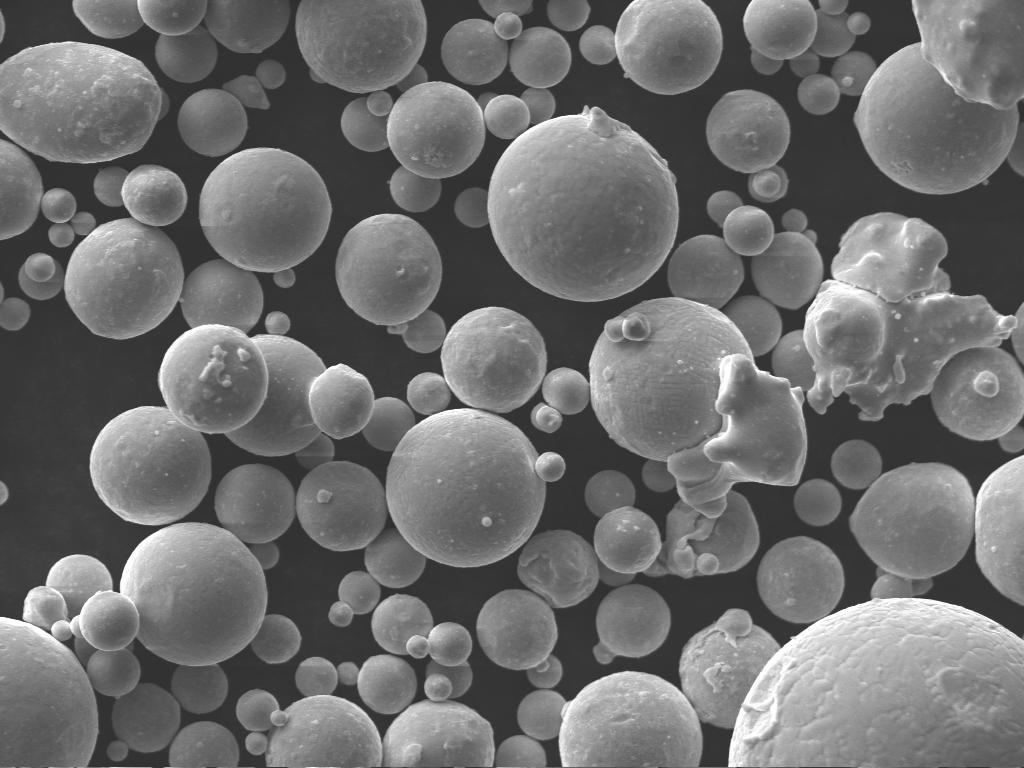Powder: (772, 212, 1016, 420), (730, 600, 1024, 766), (590, 298, 806, 519), (488, 106, 678, 302), (386, 408, 566, 567), (854, 44, 1018, 194), (120, 522, 268, 666), (0, 42, 168, 163), (200, 148, 332, 287), (226, 334, 374, 455), (850, 462, 974, 593), (64, 218, 184, 339), (0, 618, 98, 765), (90, 406, 210, 526), (558, 672, 702, 766), (912, 0, 1024, 109), (296, 0, 426, 93), (680, 608, 780, 728), (160, 324, 268, 433), (336, 214, 442, 325), (236, 690, 382, 767), (442, 306, 546, 413), (668, 206, 774, 308), (614, 0, 722, 94), (646, 492, 760, 578), (706, 90, 790, 202), (388, 82, 486, 178), (930, 348, 1024, 439), (296, 462, 388, 551), (756, 536, 844, 624), (382, 700, 494, 766), (976, 456, 1024, 605), (476, 590, 558, 672), (214, 464, 296, 544), (518, 530, 600, 608), (592, 584, 670, 663), (180, 260, 264, 331), (750, 230, 824, 309), (442, 12, 522, 84), (106, 684, 180, 761), (50, 590, 140, 652), (594, 506, 662, 586), (204, 0, 290, 53), (178, 90, 248, 155), (744, 0, 818, 60), (0, 140, 44, 239), (46, 554, 112, 617), (122, 164, 188, 225), (372, 594, 434, 658), (510, 26, 572, 88), (364, 528, 426, 588), (358, 654, 418, 713), (156, 26, 218, 82), (722, 296, 780, 355), (810, 0, 870, 57), (340, 90, 394, 152), (170, 722, 238, 767), (328, 570, 380, 627), (362, 398, 416, 451), (172, 664, 228, 714), (72, 0, 144, 38), (86, 648, 140, 698), (250, 614, 302, 663), (830, 440, 882, 489), (388, 310, 446, 353), (138, 0, 207, 36), (518, 690, 566, 740), (794, 478, 842, 526), (390, 166, 440, 212), (586, 472, 636, 517), (542, 368, 590, 414), (18, 252, 64, 300), (830, 50, 876, 95), (484, 94, 530, 139), (22, 586, 68, 630), (424, 660, 472, 702), (428, 622, 472, 666), (408, 372, 452, 415), (798, 74, 840, 116), (294, 656, 338, 696), (494, 736, 546, 768), (222, 76, 270, 109), (546, 0, 590, 32), (580, 26, 616, 65), (94, 166, 128, 206), (706, 190, 742, 227), (520, 88, 556, 125), (296, 434, 334, 469), (454, 188, 488, 227), (40, 188, 76, 223), (526, 654, 562, 688), (870, 574, 914, 600), (642, 460, 676, 492), (530, 402, 562, 433), (0, 298, 30, 330), (1006, 122, 1024, 175), (396, 64, 428, 92), (256, 60, 286, 89), (788, 50, 820, 77), (478, 1, 532, 17), (1010, 302, 1024, 363), (750, 50, 784, 75), (250, 542, 280, 569), (74, 636, 96, 668), (998, 426, 1024, 453), (48, 222, 74, 248), (70, 210, 96, 235), (782, 208, 808, 232), (264, 312, 290, 335), (336, 662, 360, 686), (476, 92, 498, 109), (1, 480, 10, 505)
